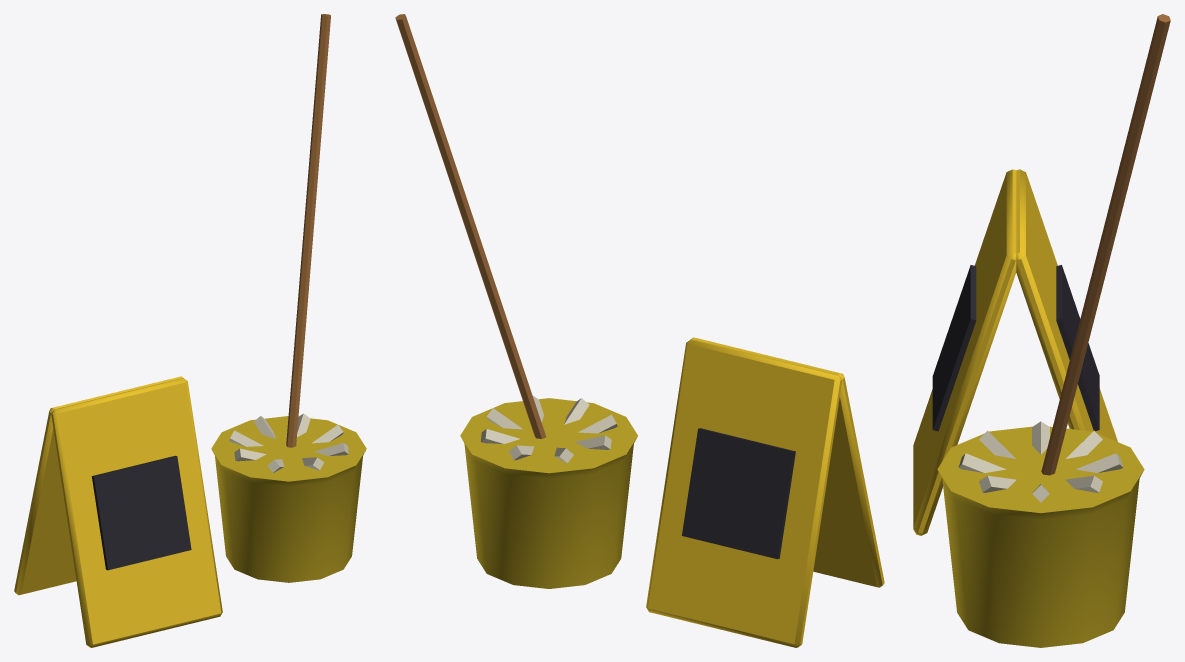
The model's file is wet_floor_block.glb.
The picture shows the model from 3 angles, left to right: view 1: azimuth 30°, elevation 25°; view 2: azimuth 150°, elevation 25°; view 3: azimuth 270°, elevation 25°; orthographic projection. The views are drawn at different scales.
Visible parts, largest first — view 1: wet_floor; view 2: wet_floor; view 3: wet_floor.
Boxes of the visible parts, bbox=[...] form: wet_floor: bbox=[14, 14, 366, 647]; wet_floor: bbox=[395, 14, 884, 647]; wet_floor: bbox=[913, 14, 1170, 647].
Bounding box in the file's own units: 1.04 × 1.45 × 0.522.
